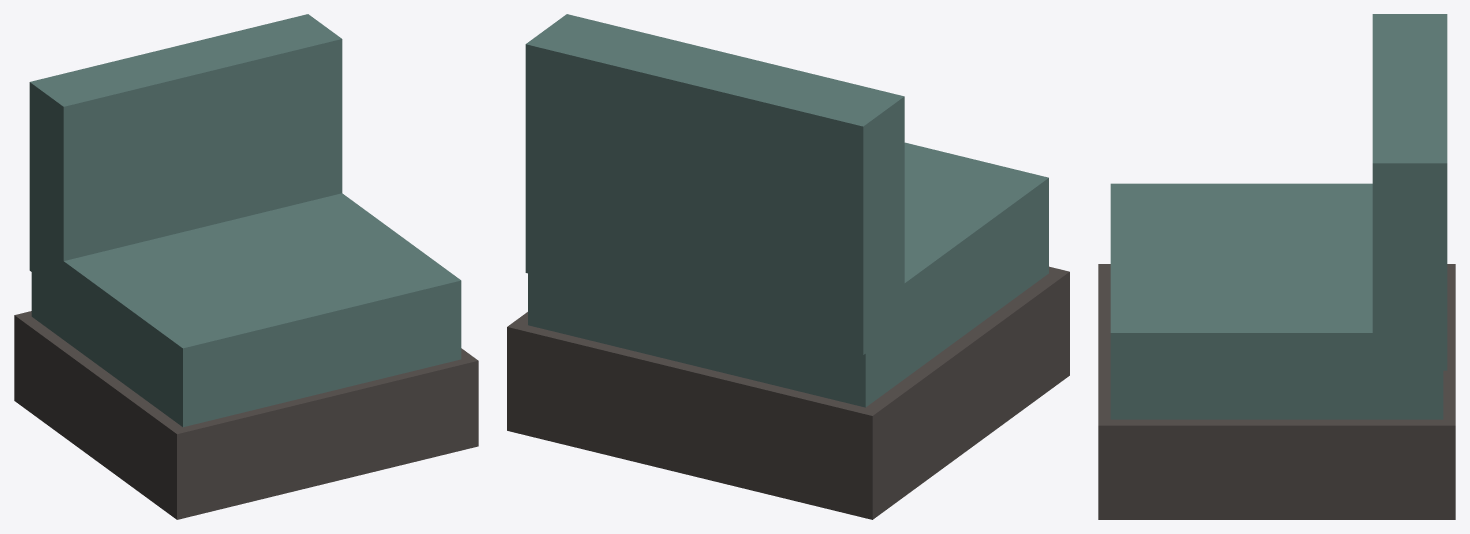
Rendered from chair_accent_velvet.glb.
3 views of the same model, side by side, from view 1: azimuth 30°, elevation 25°; view 2: azimuth 150°, elevation 25°; view 3: azimuth 270°, elevation 25° (orthographic). The views are drawn at different scales.
Parts seen in each view (by area): view 1: geometry_0, geometry_1, geometry_2; view 2: geometry_1, geometry_2, geometry_0; view 3: geometry_0, geometry_2, geometry_1.
Part boxes in pixels (x1,y1,x2,y2): geometry_0: (31, 193, 461, 427); geometry_1: (29, 14, 342, 294); geometry_2: (14, 311, 478, 519); geometry_1: (525, 14, 904, 354); geometry_2: (507, 266, 1069, 519); geometry_0: (528, 142, 1048, 407); geometry_0: (1110, 183, 1443, 419); geometry_2: (1098, 264, 1455, 519); geometry_1: (1372, 14, 1447, 370).
Bounding box in the file's own units: 0.92 × 0.93 × 0.86.
